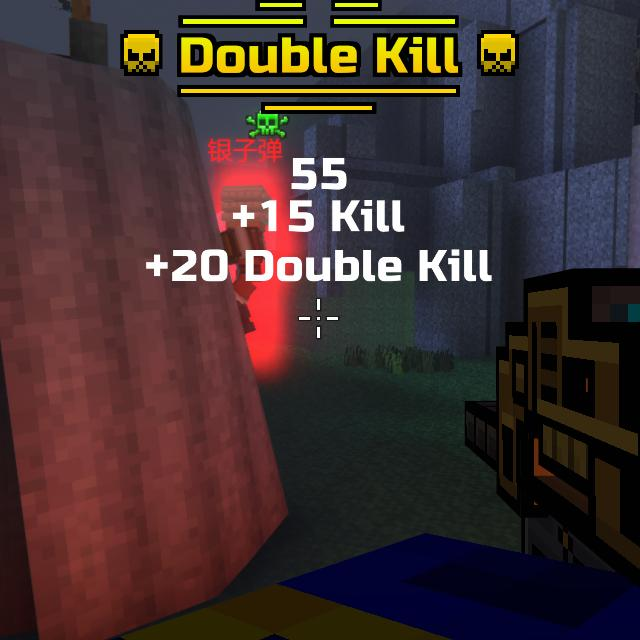Enemy: (222, 182, 299, 336)
